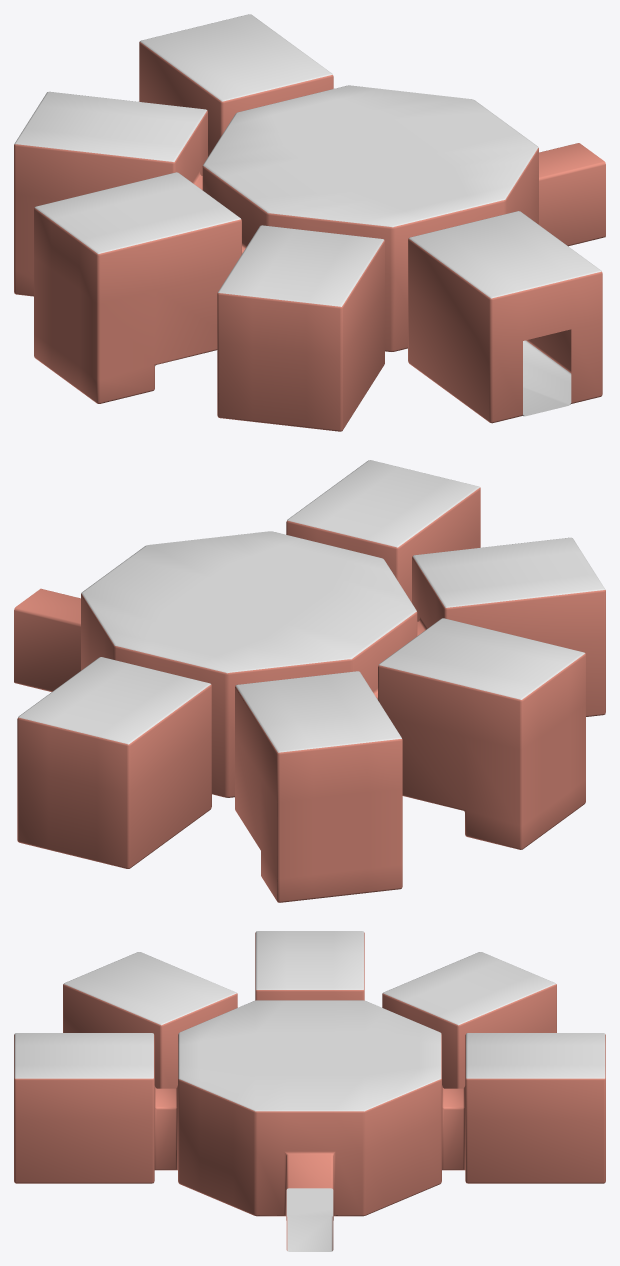
The model's file is Levels02.fbx.
3 renders of one model, top to bottom at view 1: azimuth 30°, elevation 25°; view 2: azimuth 150°, elevation 25°; view 3: azimuth 270°, elevation 25°, orthographic. The views are drawn at different scales.
Parts seen in each view (by area): view 1: Rooms.002; view 2: Rooms.002; view 3: Rooms.002.
Part boxes in pixels (x1,y1,x2,y2): Rooms.002: [14, 14, 605, 431]; Rooms.002: [14, 460, 605, 902]; Rooms.002: [14, 931, 605, 1251].
Size of the model in its own units: 21.79 by 6 by 25.27.
